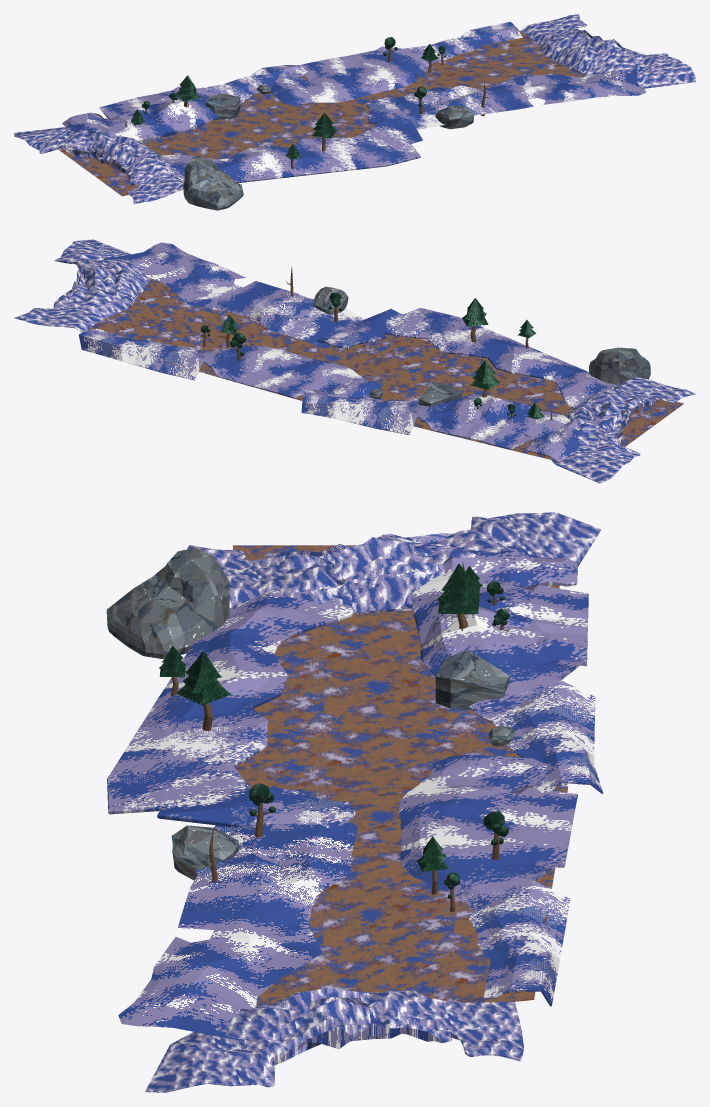
Rendered from escena2.glb.
3 renders of one model, top to bottom at view 1: azimuth 30°, elevation 25°; view 2: azimuth 150°, elevation 25°; view 3: azimuth 270°, elevation 25°, orthographic. The views are drawn at different scales.
Visible parts, largest first — view 1: suelo; view 2: suelo; view 3: suelo.
Boxes of the visible parts, x1,y1,x2,y2 form: suelo: (14,14,695,210); suelo: (14,239,695,483); suelo: (106,512,602,1092).
Bounding box in the file's own units: 140 × 13.55 × 51.69.
18 materials, 18 textured.
